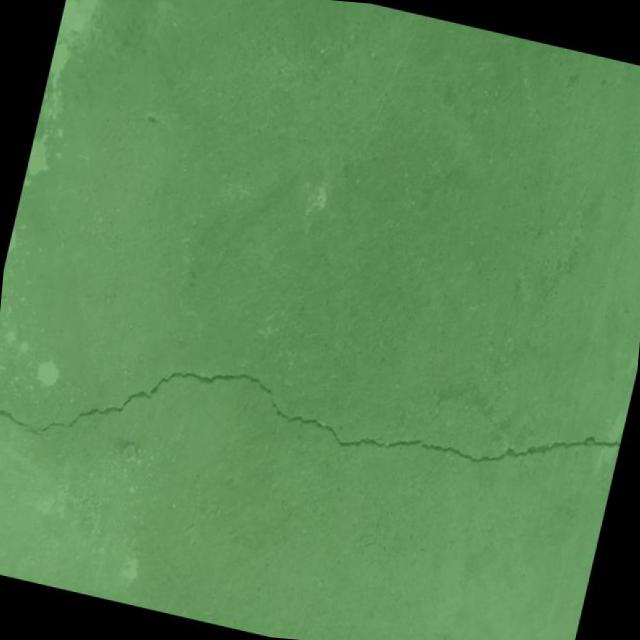crack: (0, 298, 627, 565)
